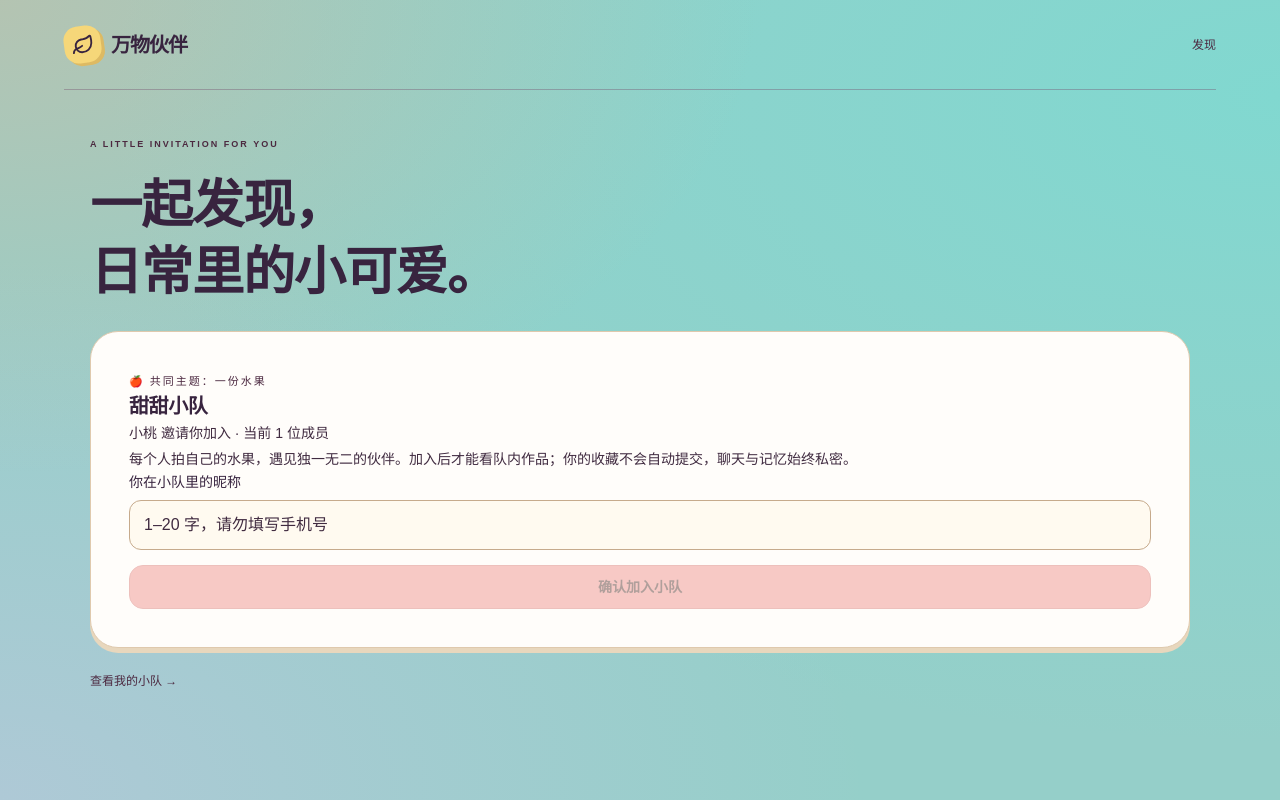
Test: preview consumes fragment without joining; explicit join is idempotent
Expected: the heading "甜甜小队" is shown, [129,395,207,417]
Type "小杏" into the field labelled "你在小队里的昵称" at (640, 526), box [129,500,1151,550]
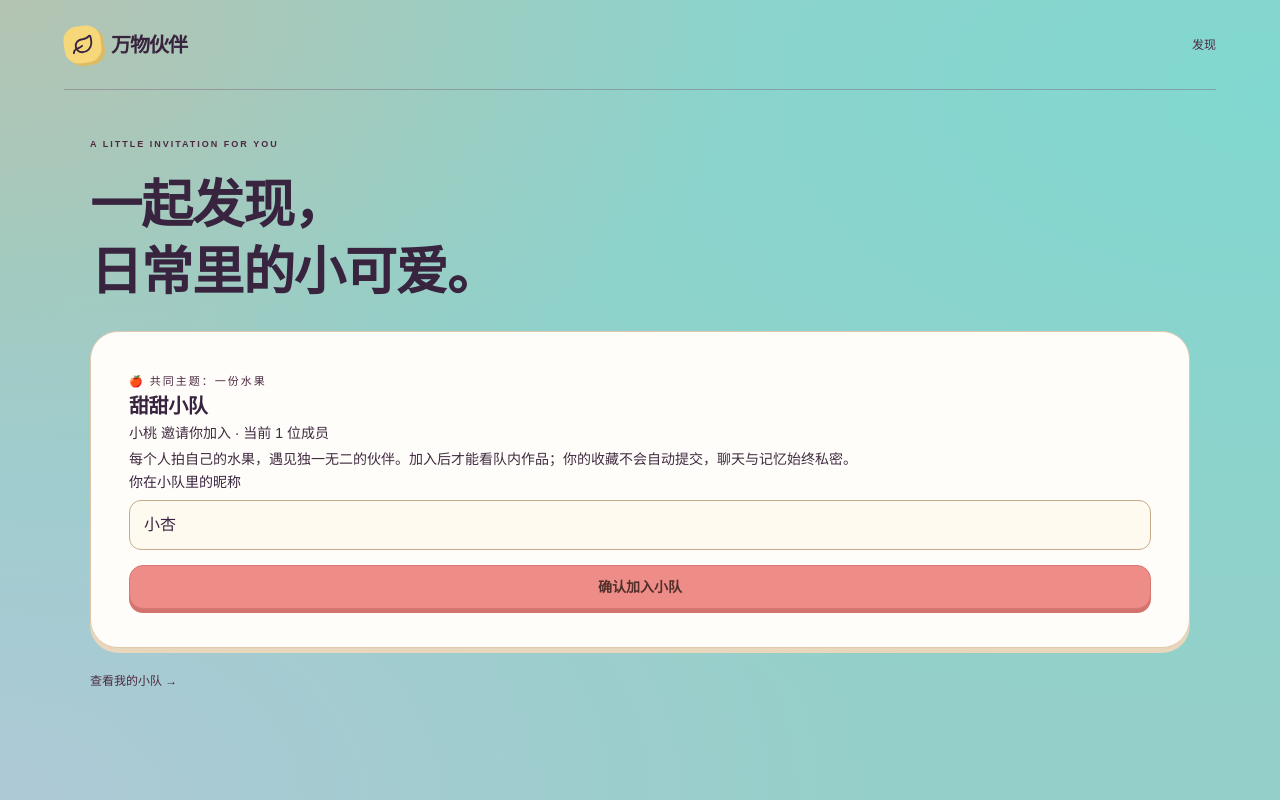
Click the button "确认加入小队" at (640, 588), box [129,566,1151,610]
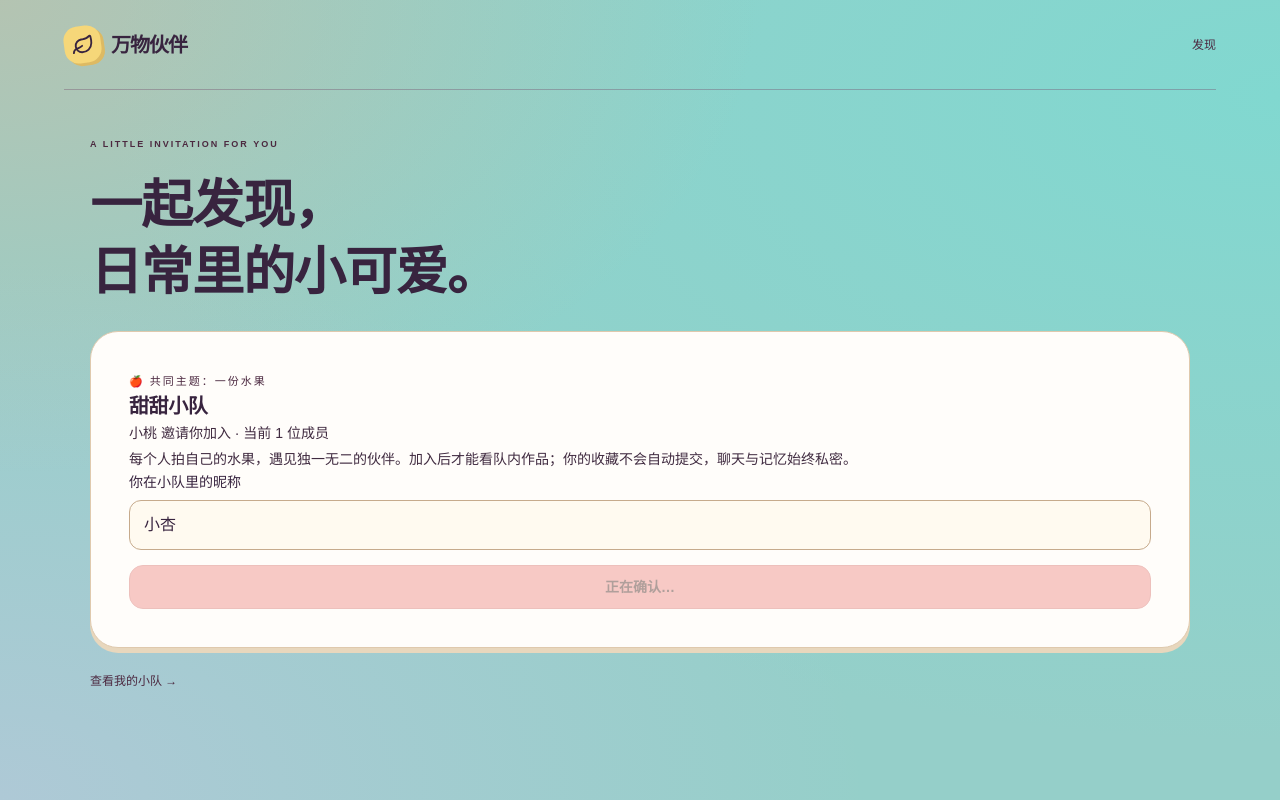
Click the button named "确认加入小队" at (640, 588), box [129,566,1151,610]
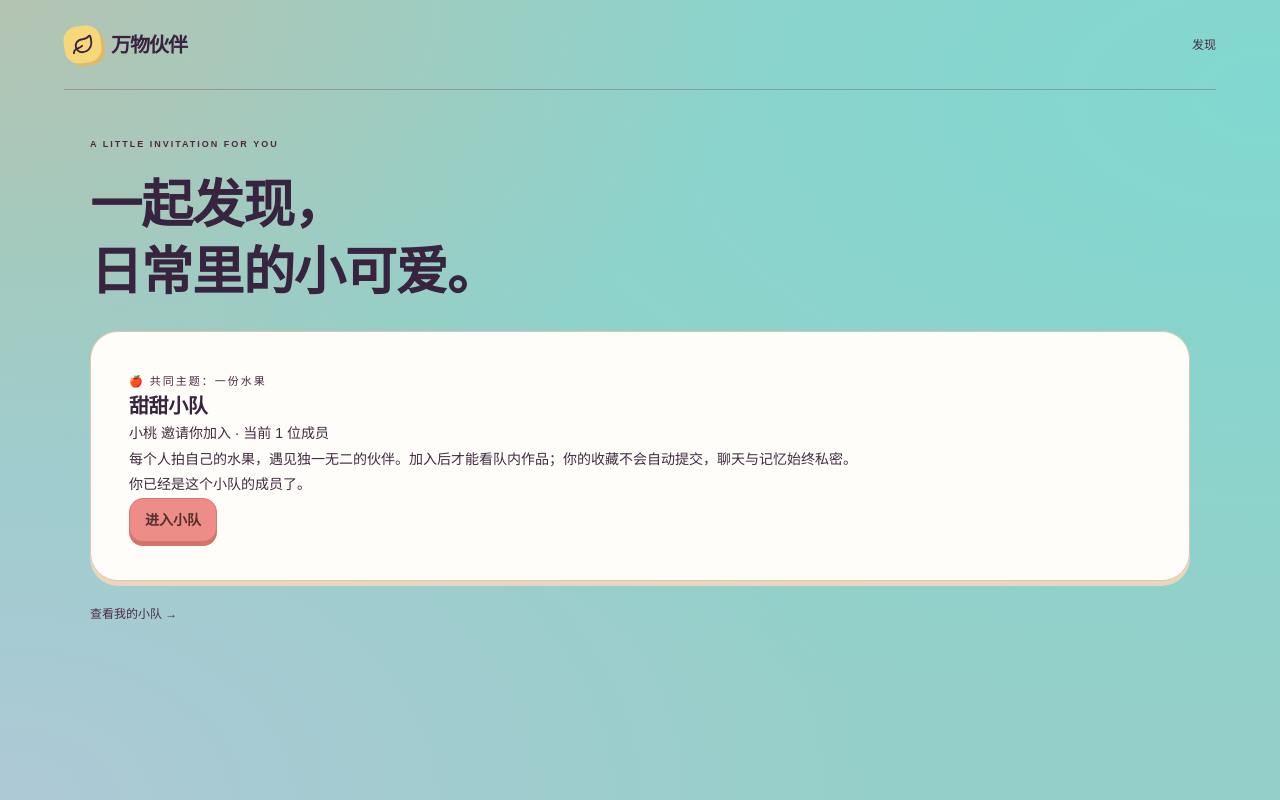
Expected: the text "你已经是这个小队的成员了。" is shown, [129,476,311,492]
